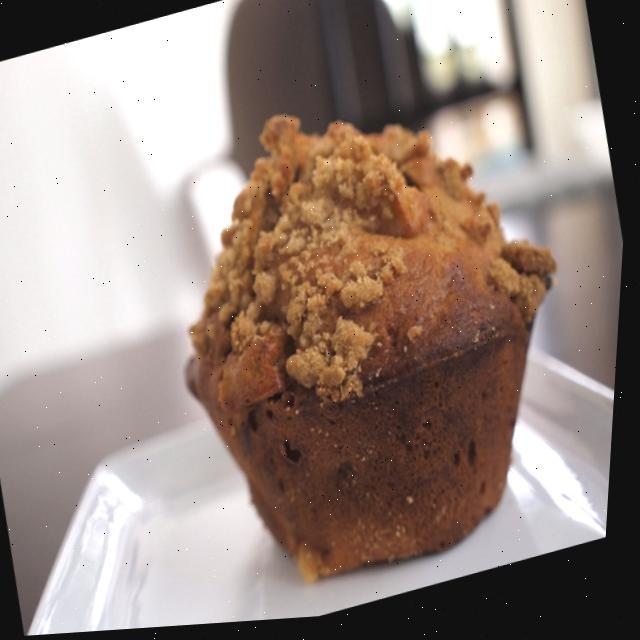炸货点心: (113, 37, 636, 630)
面包点心: (113, 37, 636, 630)
